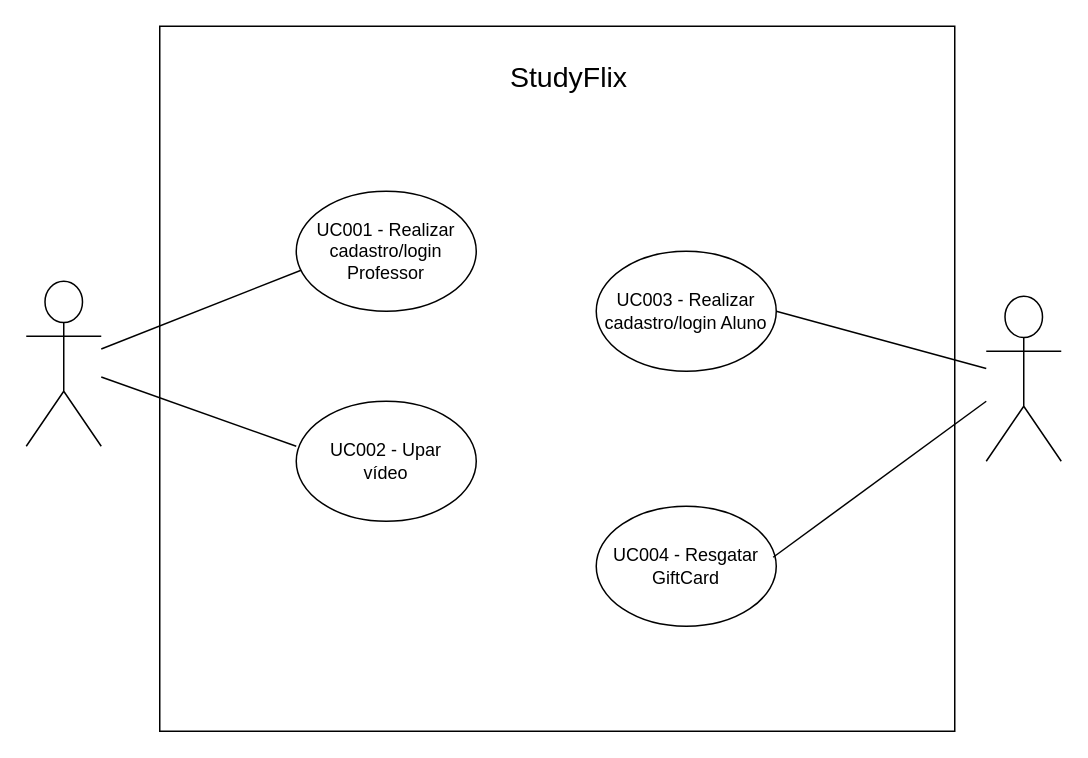
The diagram is 1088 pixels wide and 758 high, and some of its shapes have lost their labels. The shapes that lost their labels are listed below. From the top down, each one's centre as x and y in pixels, then its label:
the point at 63,363: Professor
the point at 1023,378: Aluno
